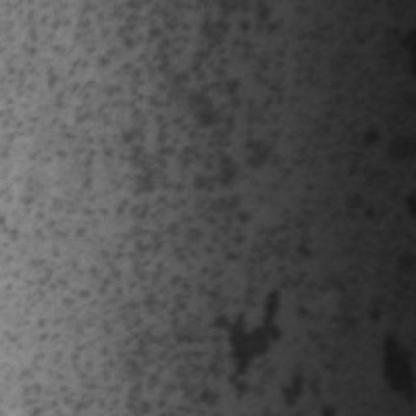pitted_surface: (8, 4, 356, 414)
